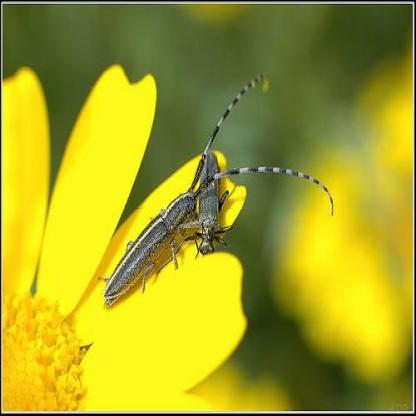beetle: (105, 170, 210, 303), (199, 144, 225, 268)
